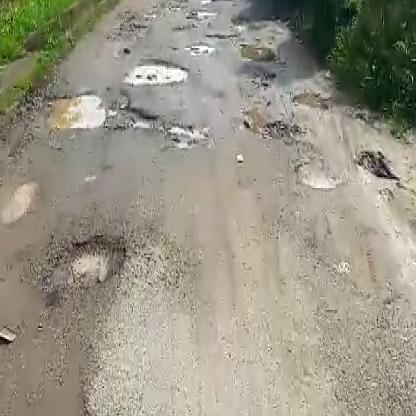pothole: (45, 232, 130, 301), (48, 92, 154, 130), (123, 58, 190, 86), (245, 109, 300, 143), (297, 157, 338, 195), (165, 123, 211, 153), (187, 38, 221, 52)
